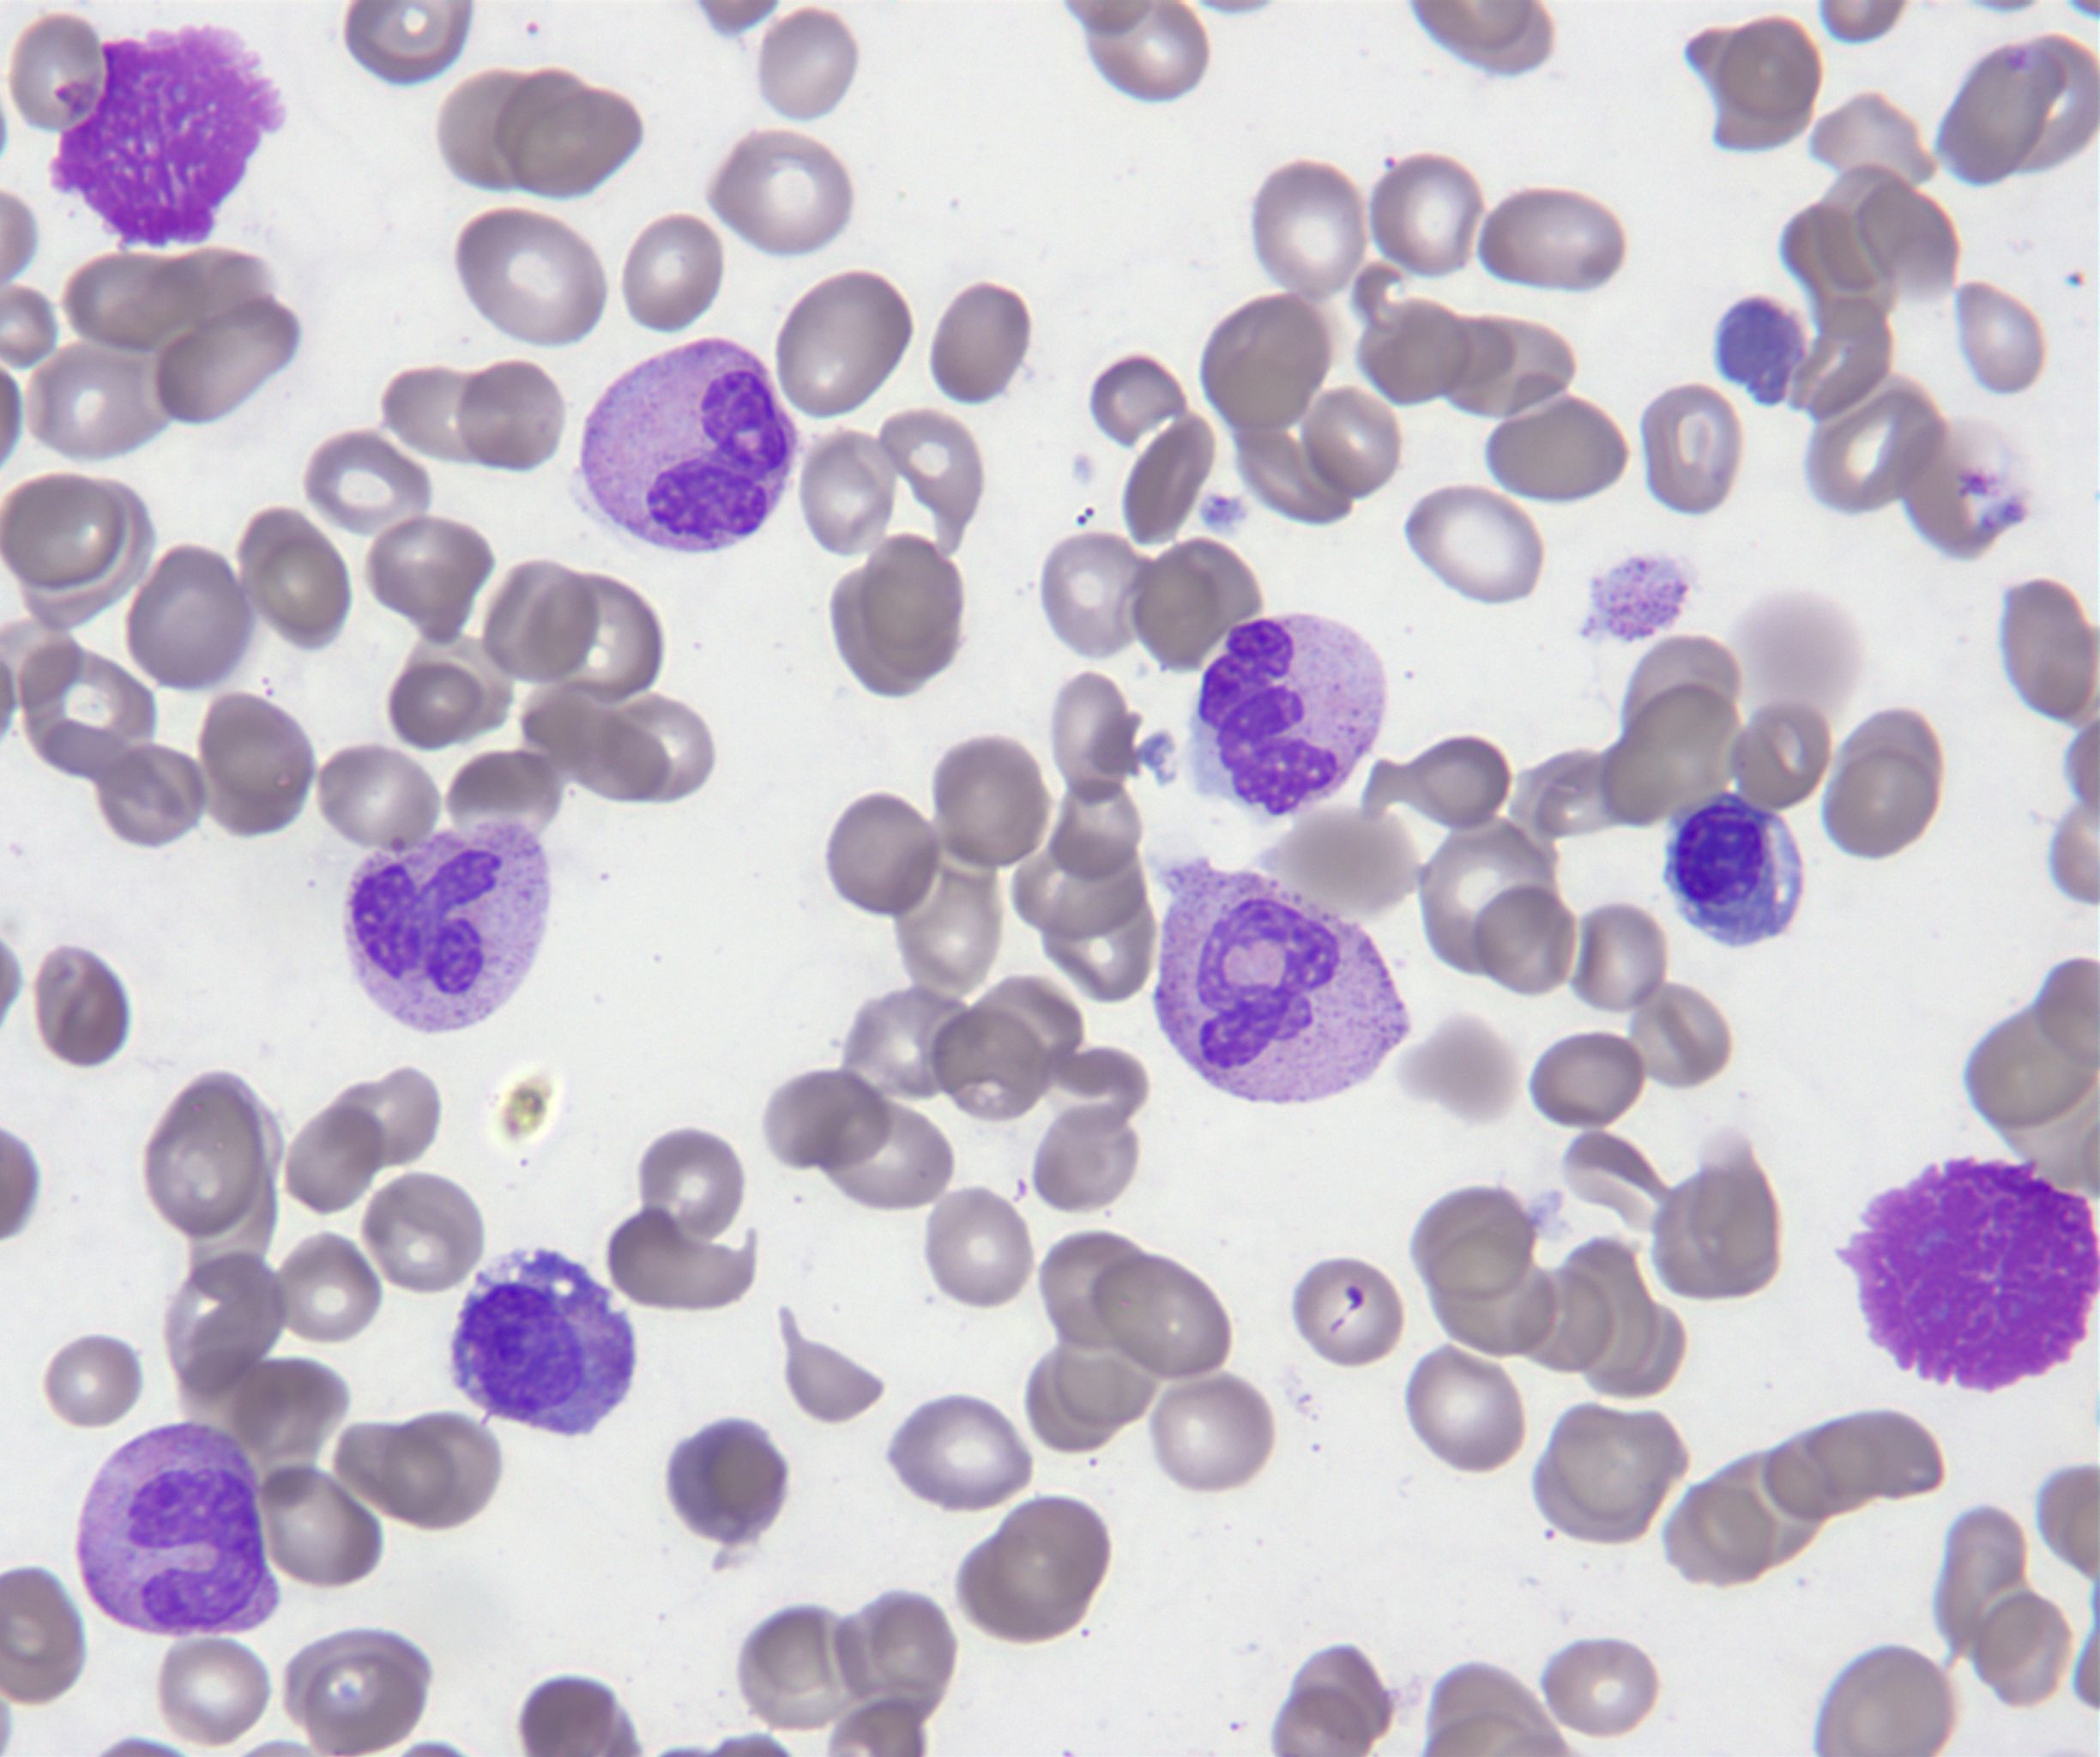24: (1666, 792, 1807, 946)
42: (448, 1249, 635, 1441)
5: (1155, 857, 1413, 1106), (82, 1424, 279, 1631)
6: (583, 340, 795, 553), (344, 825, 551, 1031), (1197, 611, 1390, 817)
x: (1837, 1159, 2100, 1387), (52, 26, 283, 251)
